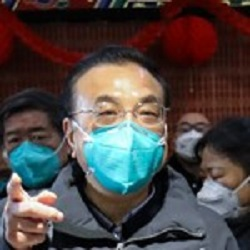mask: (66, 121, 168, 198)
